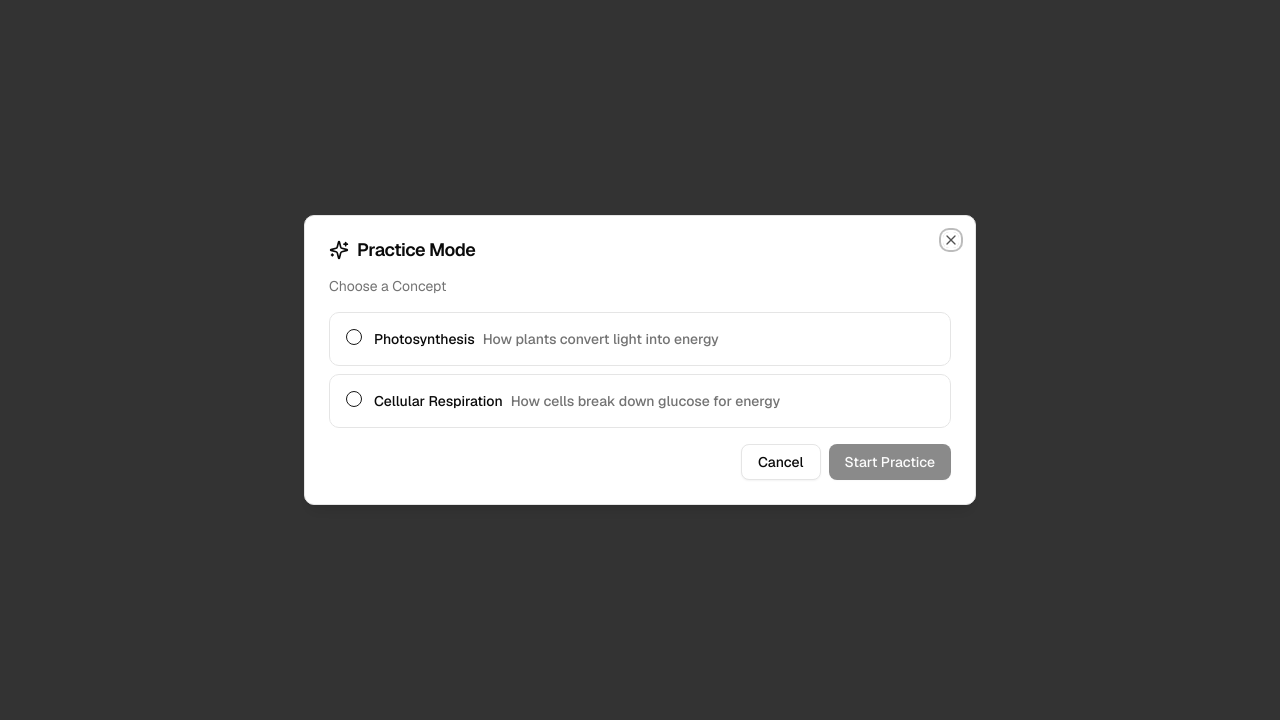
Test: PracticeModal › shows feedback after ending session
Expected: the text "Photosynthesis" is shown, [374,332,475,346]
Step 1. Click the radio button named "photosynthesis" next to "Photosynthesis" → (354, 337), box [346,329,362,345]
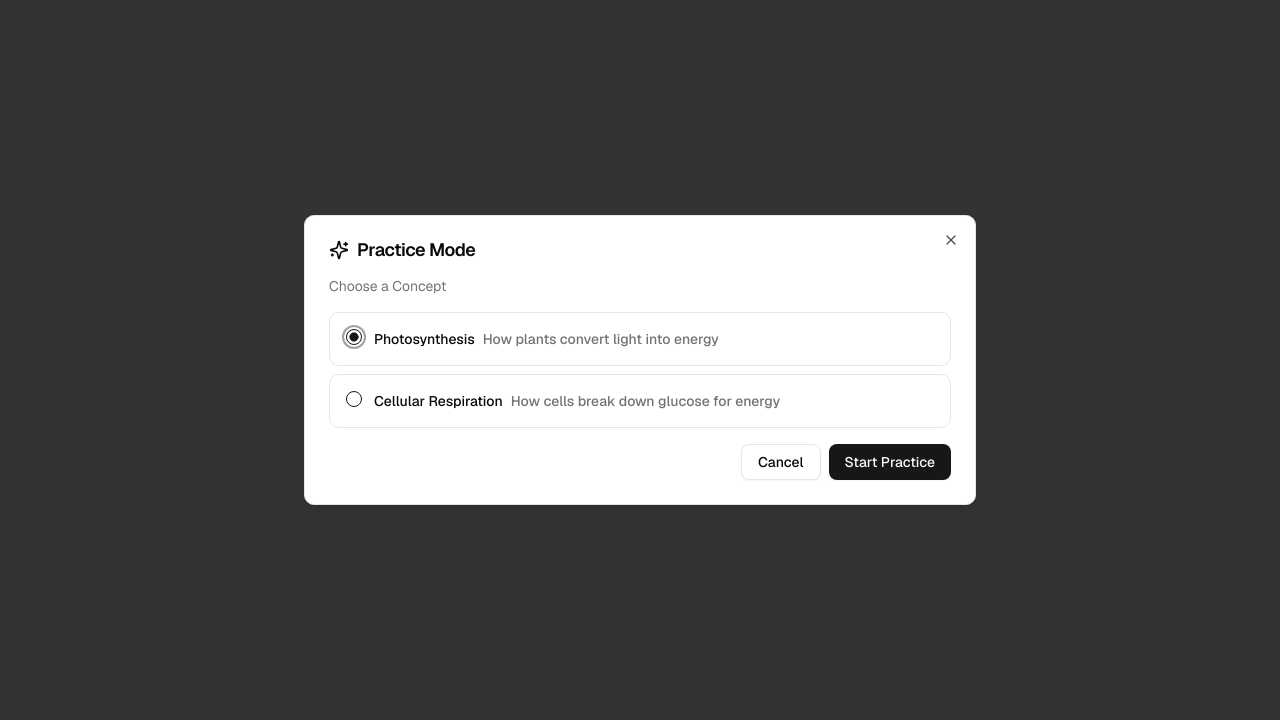
Step 2. Click the button "Start Practice" → (890, 462), box [828,444,951,480]
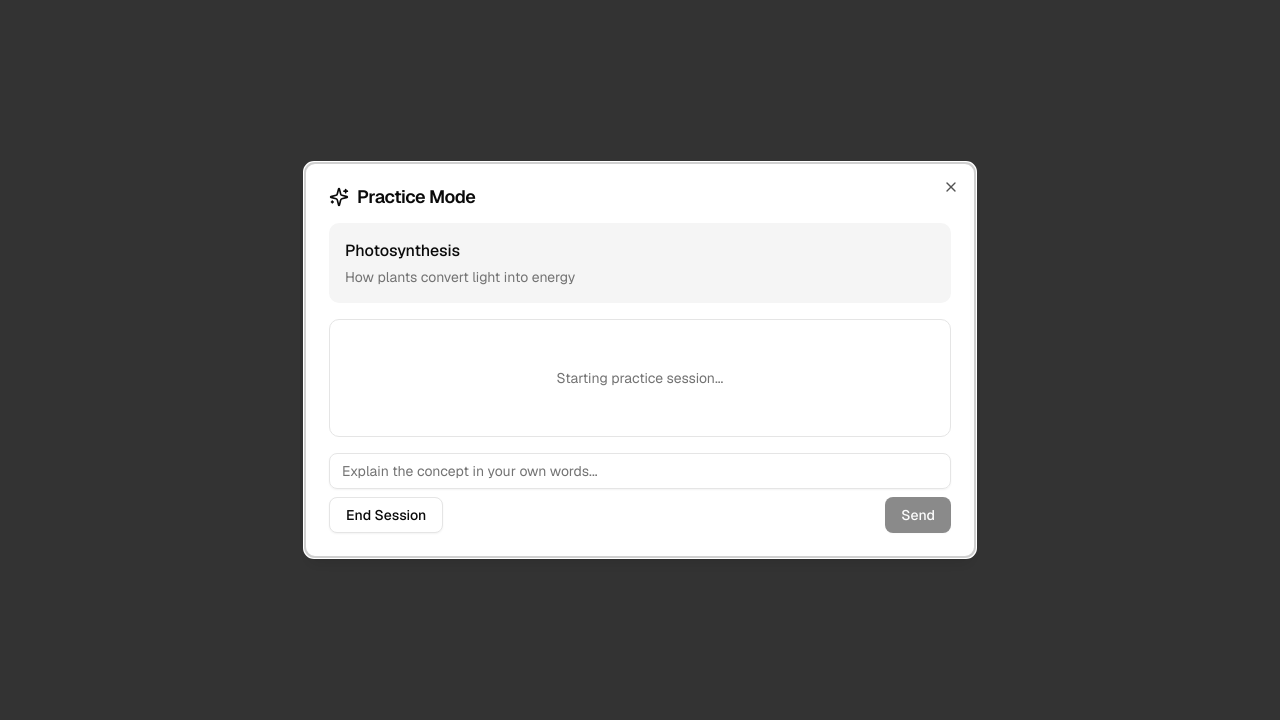
Step 3. Click the button "End Session" → (386, 515), box [329,497,443,533]
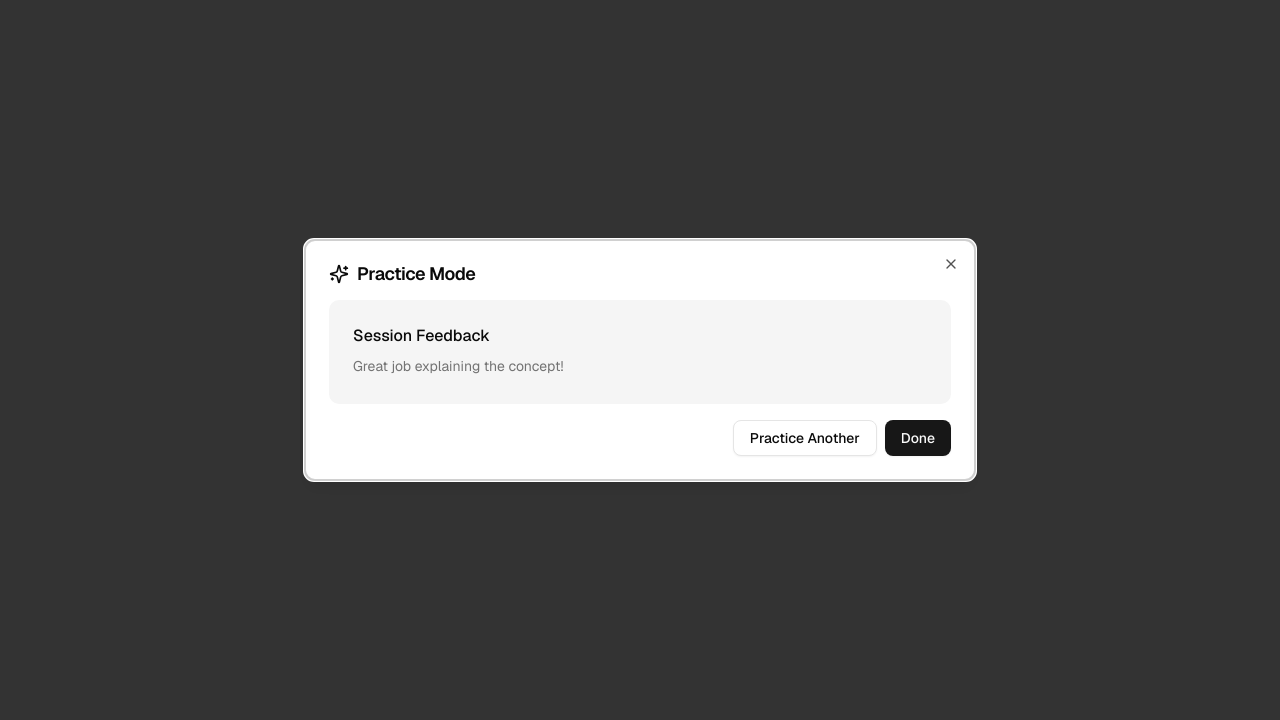
Expected: the text "Great job explaining the concept!" is shown, [353,357,563,375]
